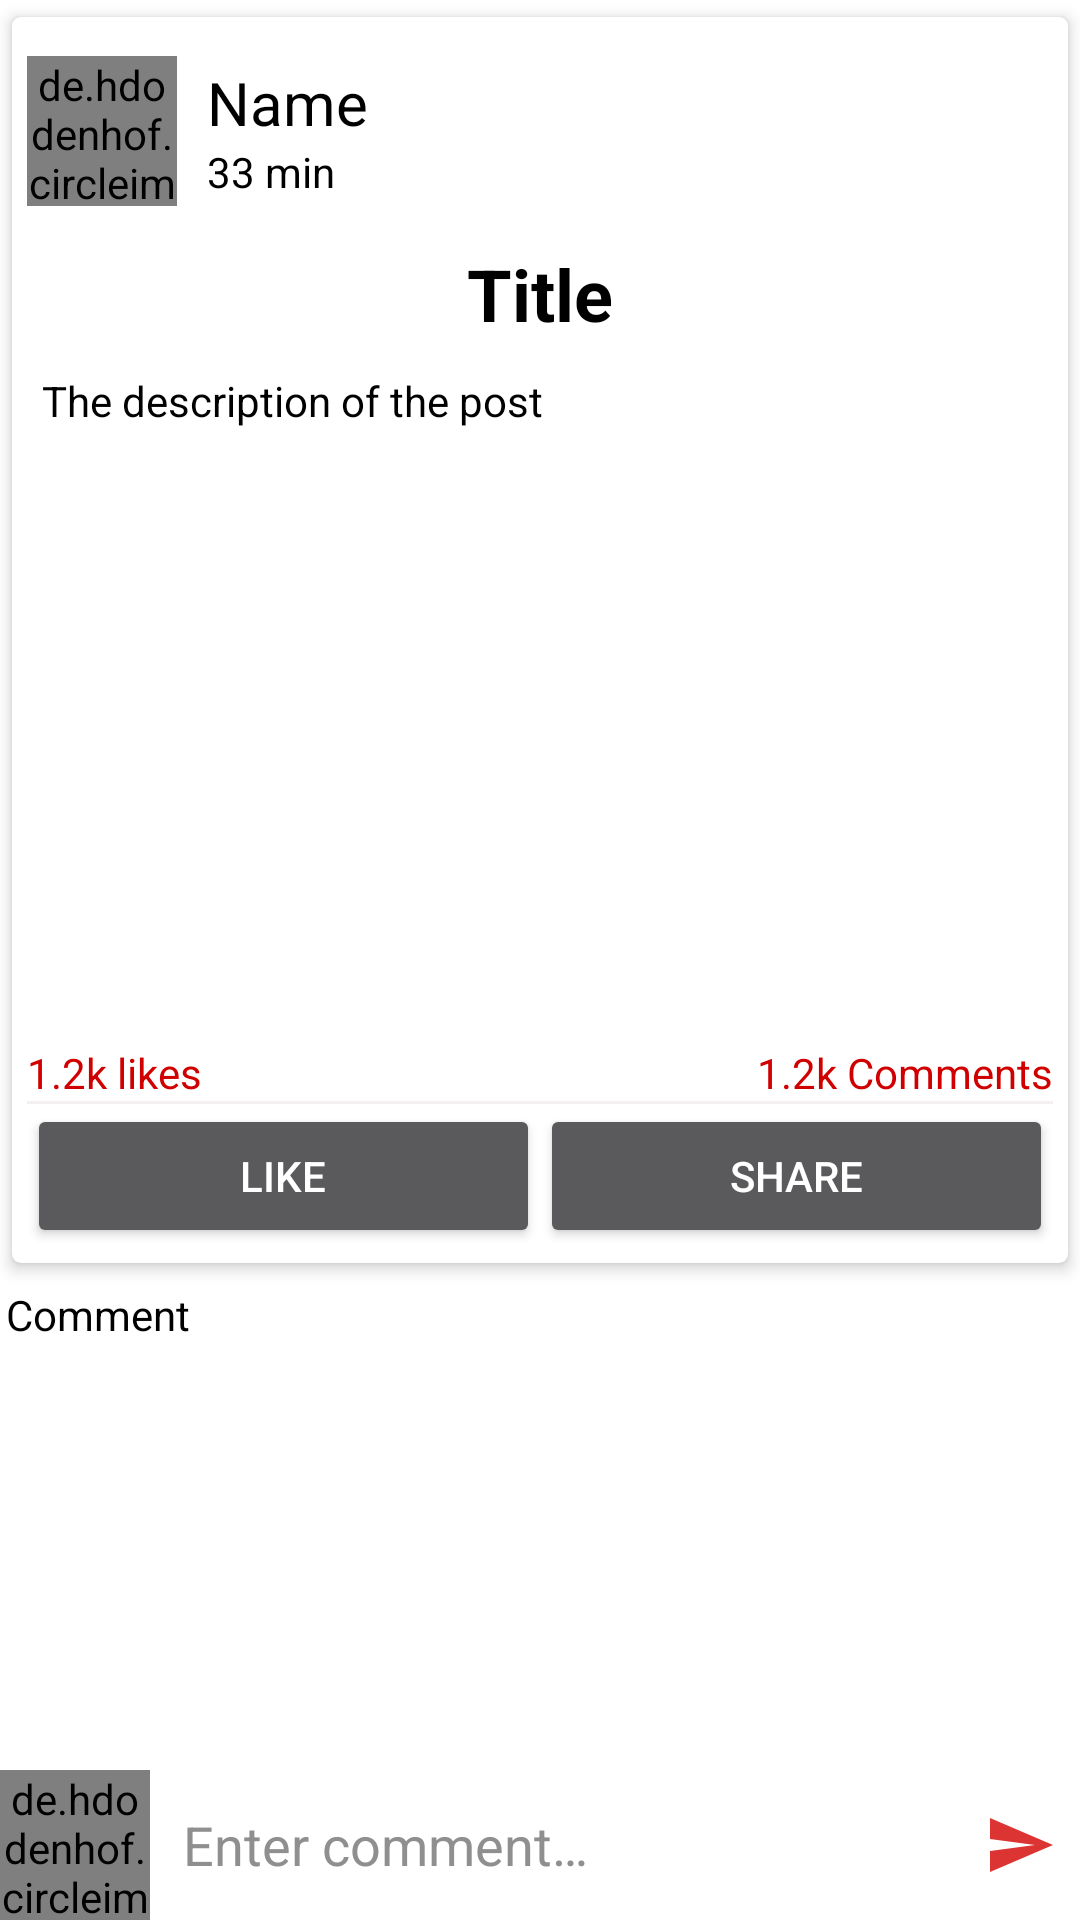

Screen size 1080 × 1920. Icon name, then its center in pixels as (x,y):
send: (1021,1845)
